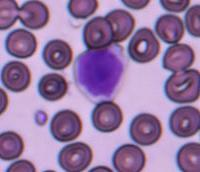L: (74, 45, 128, 101)
